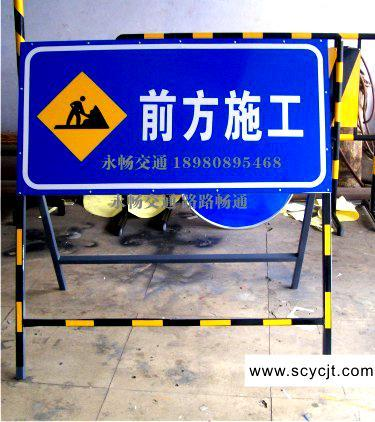sign: (22, 47, 326, 187)
